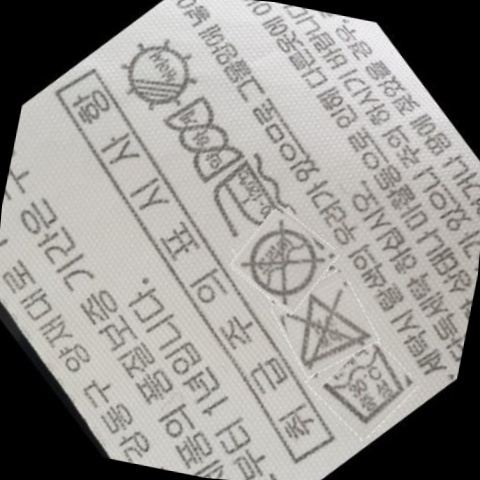DN_dry_clean: (243, 220, 327, 306)
dry_flat_in_shade: (121, 37, 204, 117)
hand_wash: (325, 340, 413, 436)
iron_low: (204, 156, 289, 245)
non_chlorine_bleach: (288, 287, 376, 373)
wring: (163, 90, 255, 186)
